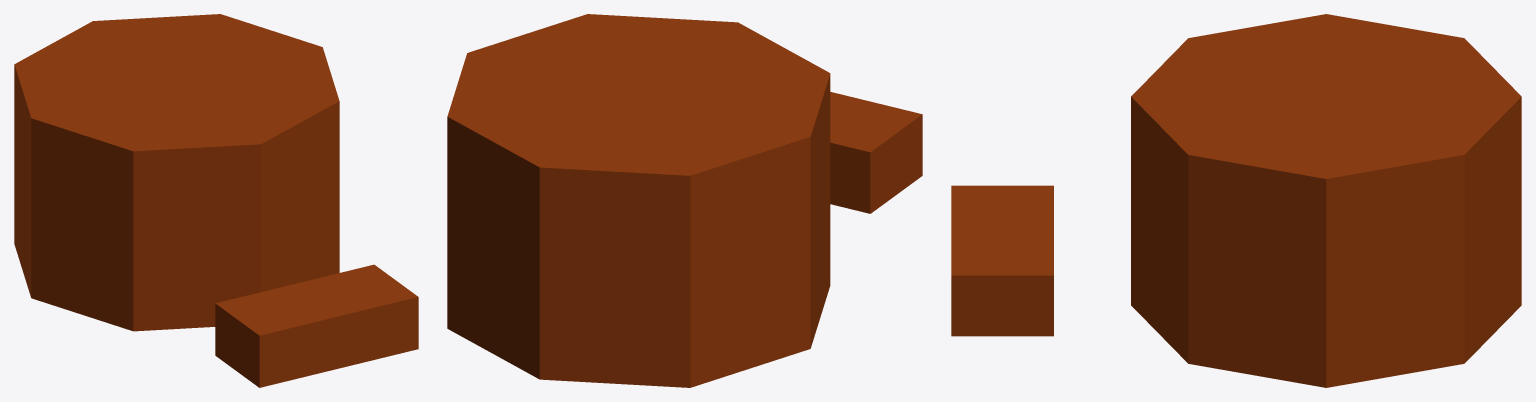
The model's file is Dokdo_stone_Collision.FBX.
3 views of the same model, side by side, from view 1: azimuth 30°, elevation 25°; view 2: azimuth 150°, elevation 25°; view 3: azimuth 270°, elevation 25° (orthographic). The views are drawn at different scales.
Visible parts, largest first — view 1: Dokdo_stone_Collision; view 2: Dokdo_stone_Collision; view 3: Dokdo_stone_Collision.
Part boxes in pixels (left/top/right/bottom): Dokdo_stone_Collision: left=14, top=14, right=418, bottom=387; Dokdo_stone_Collision: left=447, top=14, right=922, bottom=387; Dokdo_stone_Collision: left=951, top=14, right=1521, bottom=387.
Size of the model in its own units: 2.26 by 1.33 by 3.3.
